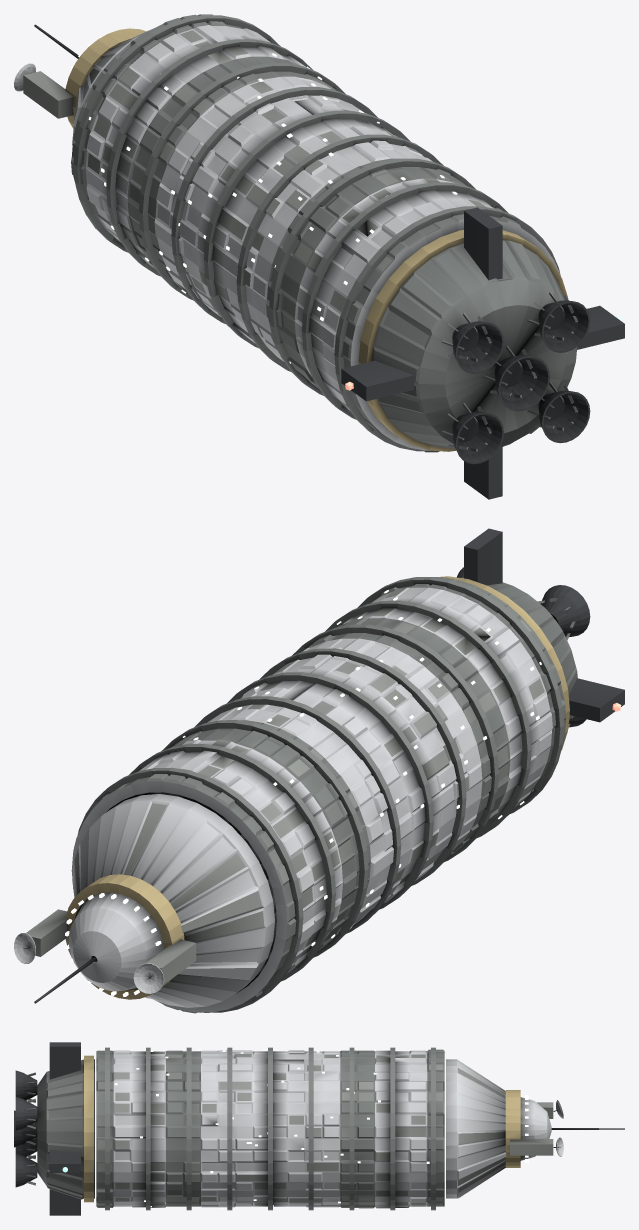
File: medina.glb
3 renders of one model, top to bottom at view 1: azimuth 30°, elevation 25°; view 2: azimuth 150°, elevation 25°; view 3: azimuth 270°, elevation 25°, orthographic. The views are drawn at different scales.
Visible parts, largest first — view 1: drum, body; view 2: drum, body; view 3: drum, body.
Part boxes in pixels (<box>): drum: <box>71,14,560,452</box>; body: <box>14,24,624,499</box>; drum: <box>71,577,565,1013</box>; body: <box>14,528,624,1007</box>; drum: <box>96,1047,444,1210</box>; body: <box>14,1042,624,1215</box>.
Size of the model in its own units: 0.3189 by 0.3 by 0.9825.
